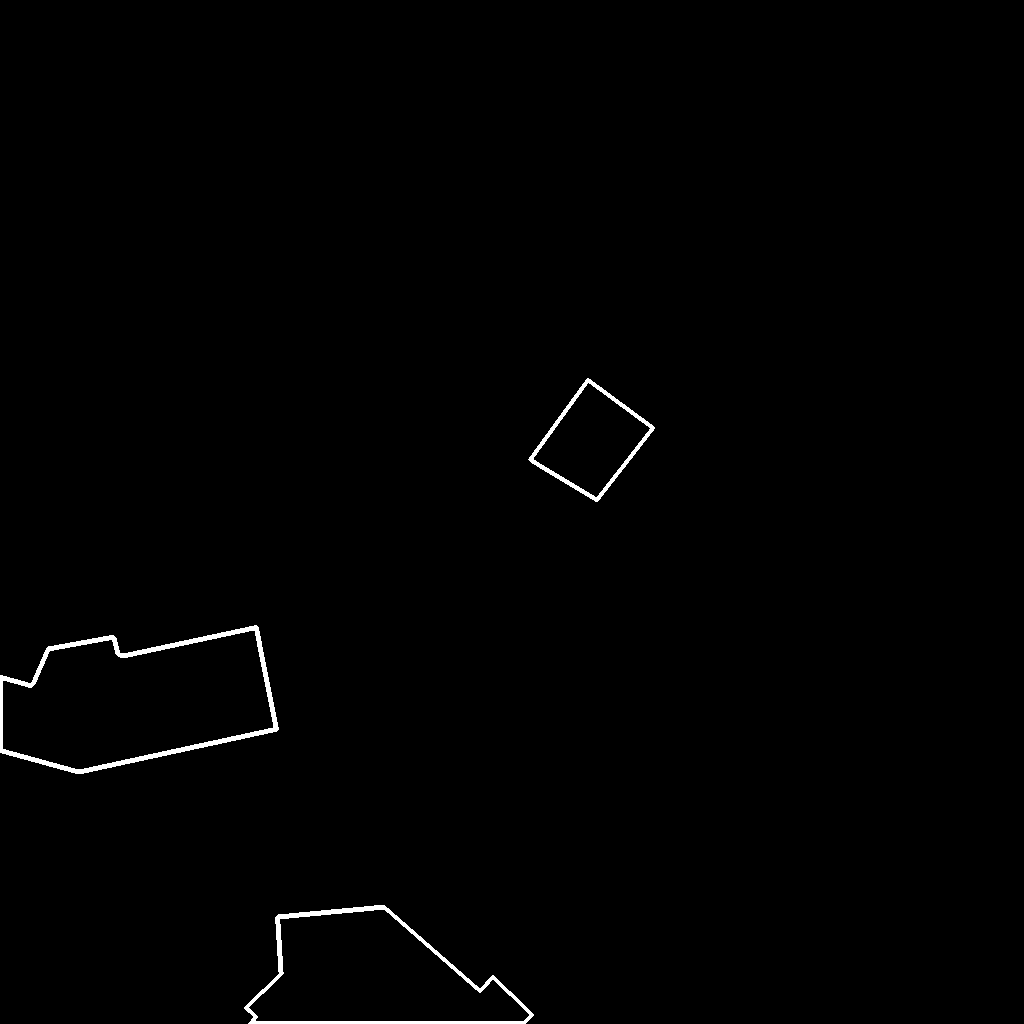building: (0, 627, 278, 773), (246, 907, 533, 1024), (530, 380, 654, 501)
